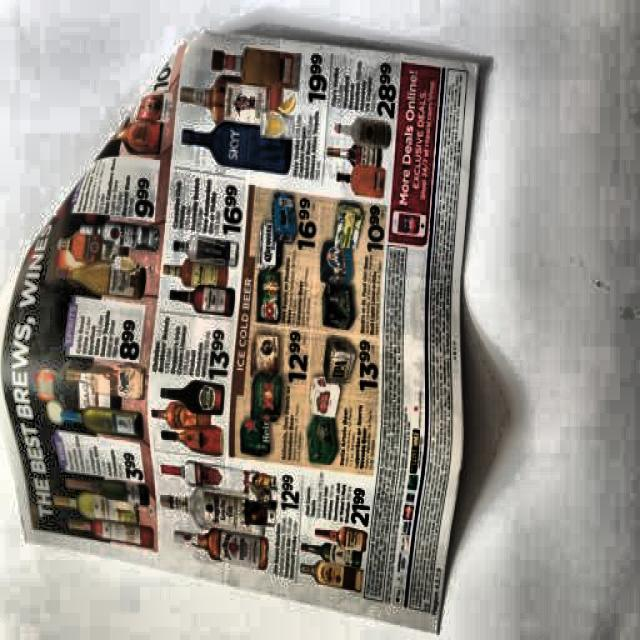paper: (14, 28, 486, 640)
